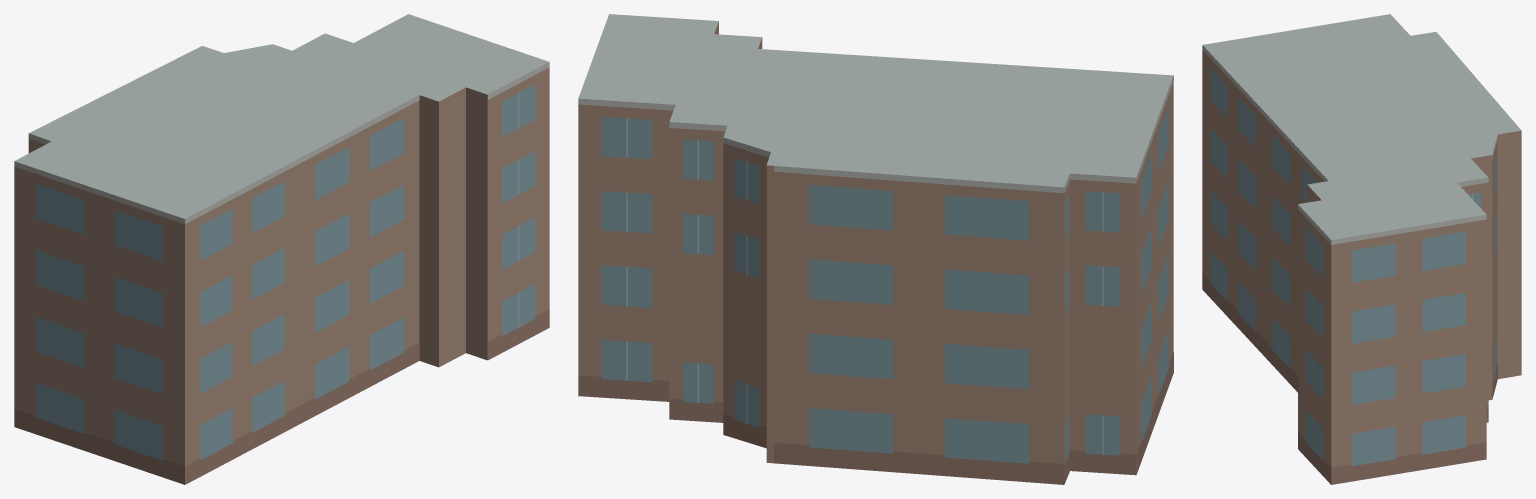
Rendered from survey-upis-32756769.glb.
The picture shows the model from 3 angles, left to right: view 1: azimuth 30°, elevation 25°; view 2: azimuth 150°, elevation 25°; view 3: azimuth 270°, elevation 25°; orthographic projection. The views are drawn at different scales.
Visible parts, largest first — view 1: survey-upis-32756769.tmp; view 2: survey-upis-32756769.tmp; view 3: survey-upis-32756769.tmp.
Boxes of the visible parts, x1,y1,x2,y2 form: survey-upis-32756769.tmp: [14, 14, 549, 484]; survey-upis-32756769.tmp: [578, 14, 1173, 484]; survey-upis-32756769.tmp: [1202, 14, 1521, 484].
Bounding box in the file's own units: 24.38 × 12.3 × 14.54.
